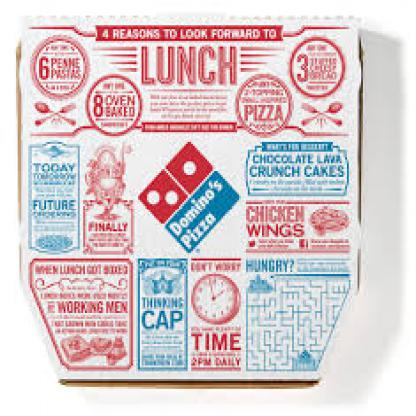CARDBOARD: (14, 15, 361, 387)
